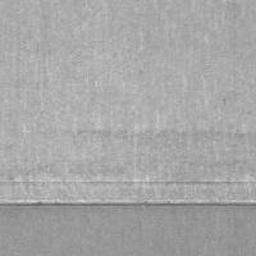Welding line: (0, 197, 256, 209)
